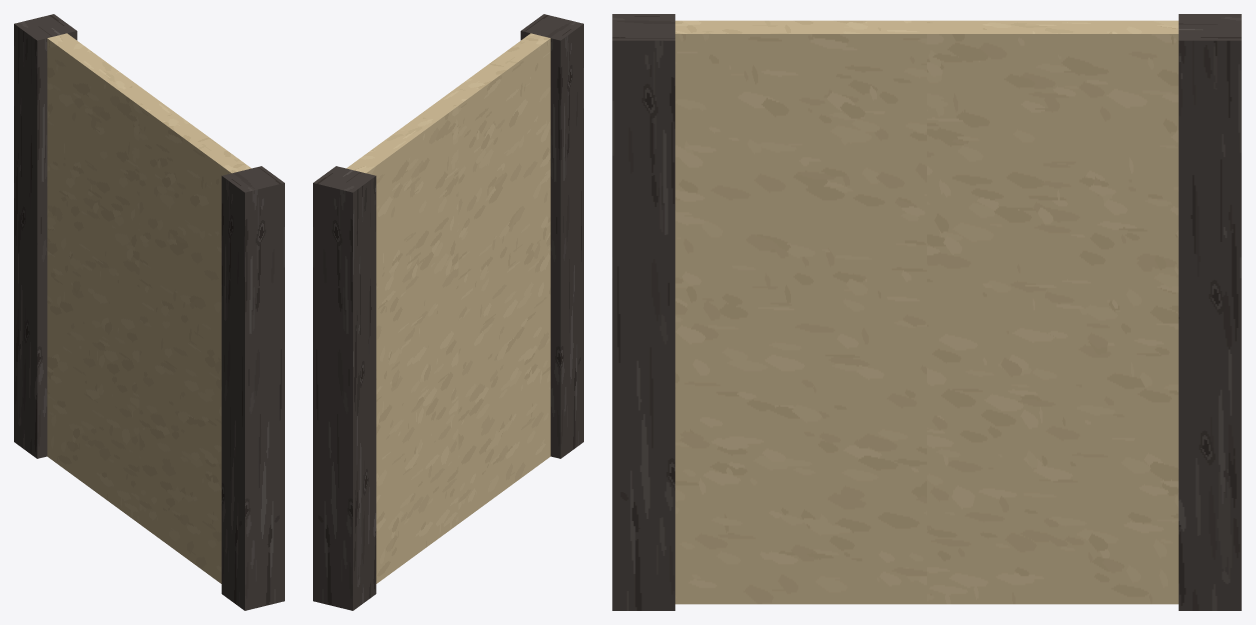
Rendered from wall.gltf.
The picture shows the model from 3 angles, left to right: view 1: azimuth 30°, elevation 25°; view 2: azimuth 150°, elevation 25°; view 3: azimuth 270°, elevation 25°; orthographic projection. The views are drawn at different scales.
Parts seen in each view (by area): view 1: wall; view 2: wall; view 3: wall.
Part boxes in pixels (<box>): wall: <box>14,14,284,610</box>; wall: <box>313,14,583,610</box>; wall: <box>612,14,1241,610</box>.
Size of the model in its own units: 0.1 by 1 by 1.
2 materials, 2 textured.
